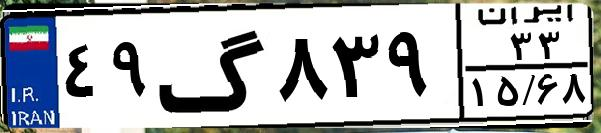1: (470, 70, 495, 125)
3: (330, 28, 385, 110), (537, 27, 568, 80), (508, 27, 537, 80)
4: (57, 26, 110, 100)
5: (495, 70, 520, 125)
6: (535, 70, 560, 125)
8: (270, 28, 330, 110), (560, 70, 590, 125)
9: (385, 28, 445, 110), (110, 28, 156, 98)
گ: (156, 12, 270, 120)
